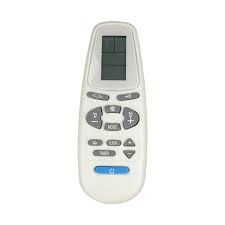remote control: (77, 12, 152, 205)
